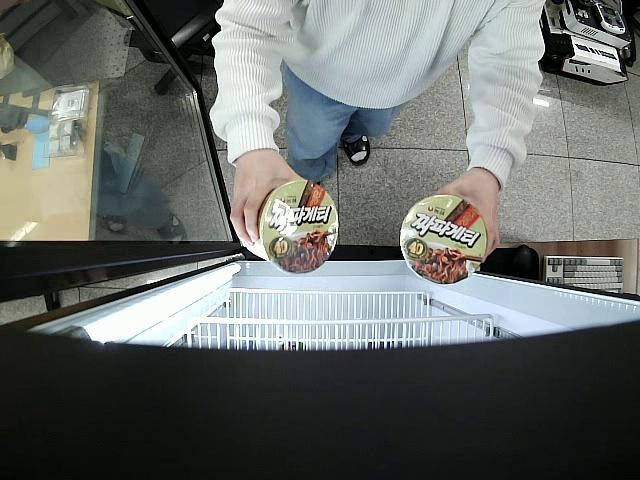03_chapagetti_L: (242, 180, 340, 273), (400, 194, 487, 286)
